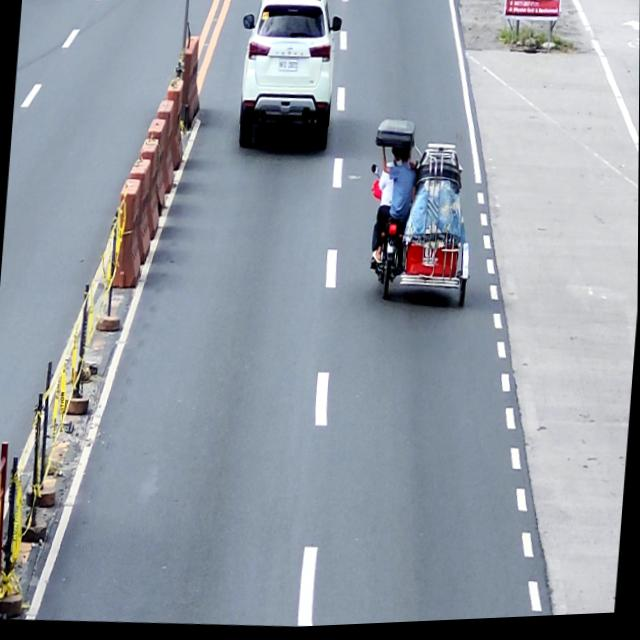Car: (232, 0, 344, 156)
License-Plate: (278, 59, 299, 74)
Tricycle: (361, 117, 481, 315)
